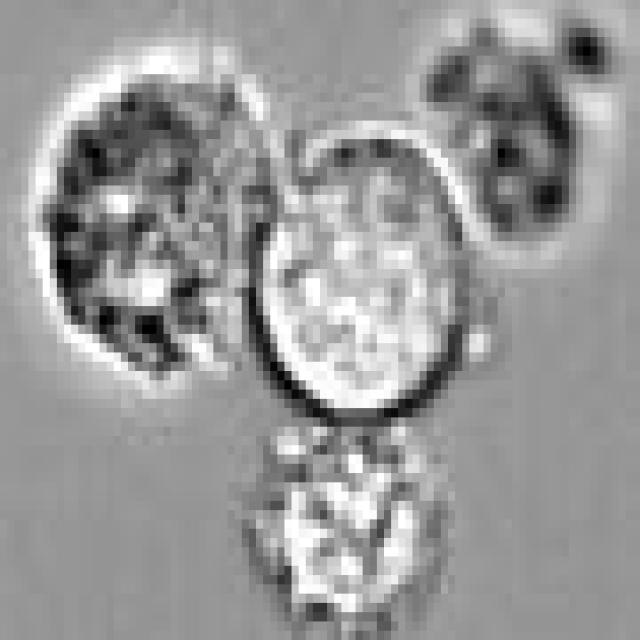Cancer Cell: (249, 130, 483, 417)
WBC: (50, 47, 270, 380), (263, 408, 441, 631)
